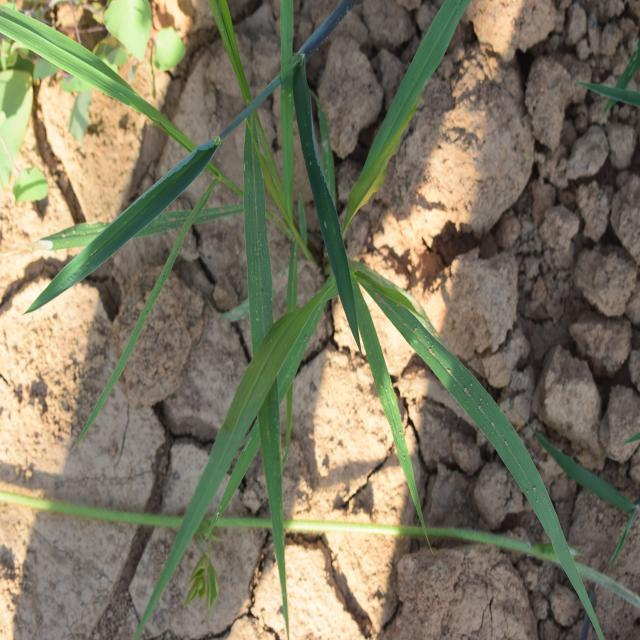green_foxtail: (133, 92, 522, 508)
